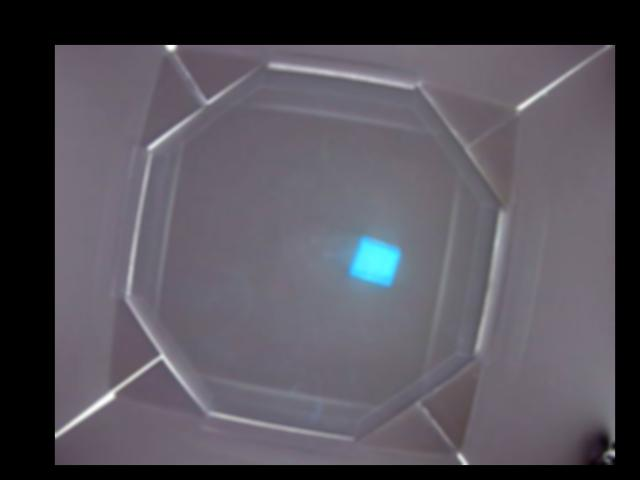Carrot: (349, 237, 399, 286)
